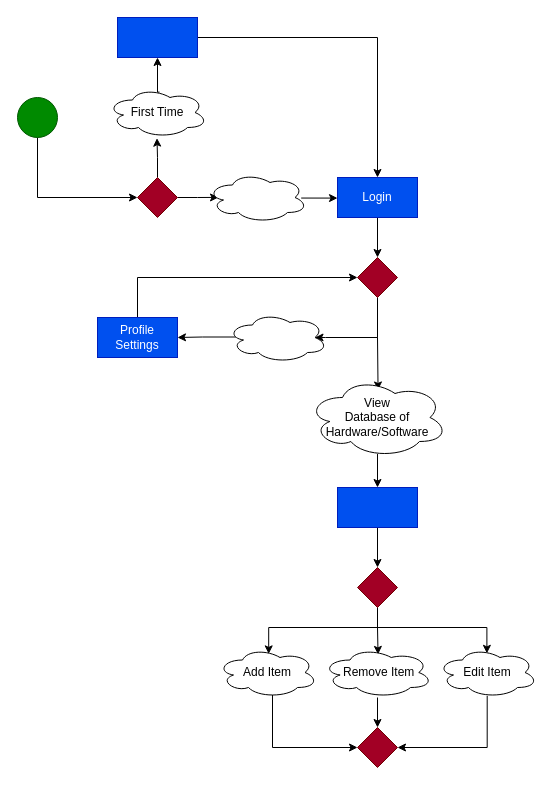
Image size: 555x785. Some labels were removed from this diagram. The centre of each missing label's shape, as x and y in pixels:
Database: the point at 377,507
Existing User/Admin: the point at 257,197
Register: the point at 157,37
View Profile: the point at 277,337
